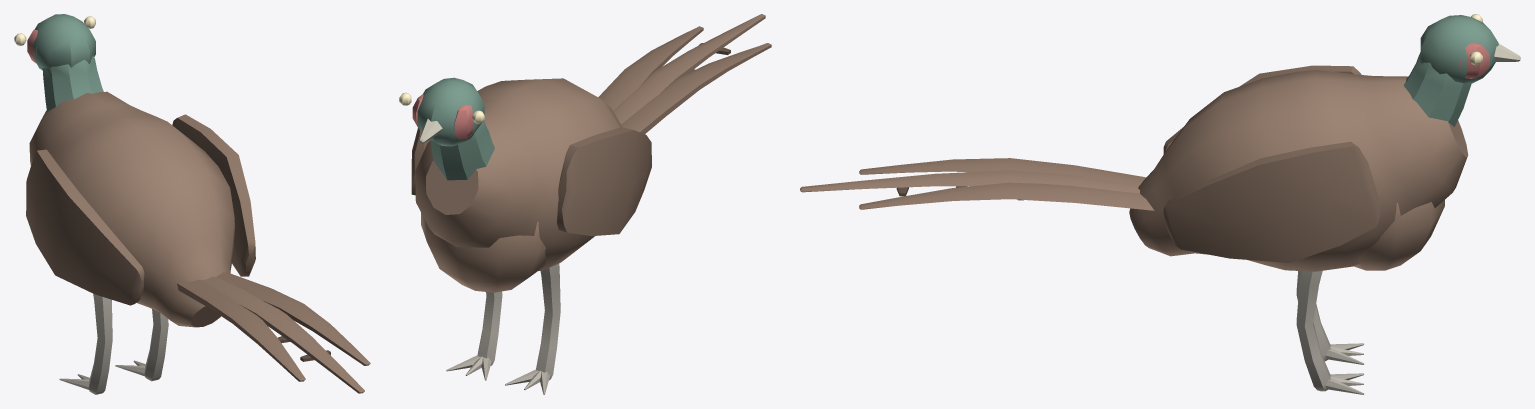
The model's file is pheasant.gltf.
3 views of the same model, side by side, from view 1: azimuth 30°, elevation 25°; view 2: azimuth 150°, elevation 25°; view 3: azimuth 270°, elevation 25° (orthographic). The views are drawn at different scales.
Parts seen in each view (by area): view 1: Body, FlapL, FlapR, SwingA, SwingB; view 2: Body, FlapL, SwingA, SwingB, FlapR; view 3: Body, FlapR, SwingB, SwingA, FlapL.
Boxes of the visible parts, left/top/right/bottom form: Body: left=14, top=14, right=370, bottom=393; FlapL: left=26, top=149, right=144, bottom=305; FlapR: left=172, top=114, right=255, bottom=276; SwingA: left=59, top=294, right=112, bottom=394; SwingB: left=115, top=309, right=168, bottom=381; Body: left=399, top=14, right=771, bottom=292; FlapL: left=557, top=127, right=651, bottom=236; SwingA: left=505, top=263, right=560, bottom=394; SwingB: left=446, top=291, right=502, bottom=380; FlapR: left=411, top=128, right=430, bottom=195; Body: left=800, top=14, right=1520, bottom=271; FlapR: left=1163, top=141, right=1379, bottom=262; SwingB: left=1296, top=271, right=1364, bottom=394; SwingA: left=1296, top=271, right=1364, bottom=364; FlapL: left=1163, top=65, right=1361, bottom=153.
Size of the model in its own units: 0.3898 by 0.6668 by 1.22.
